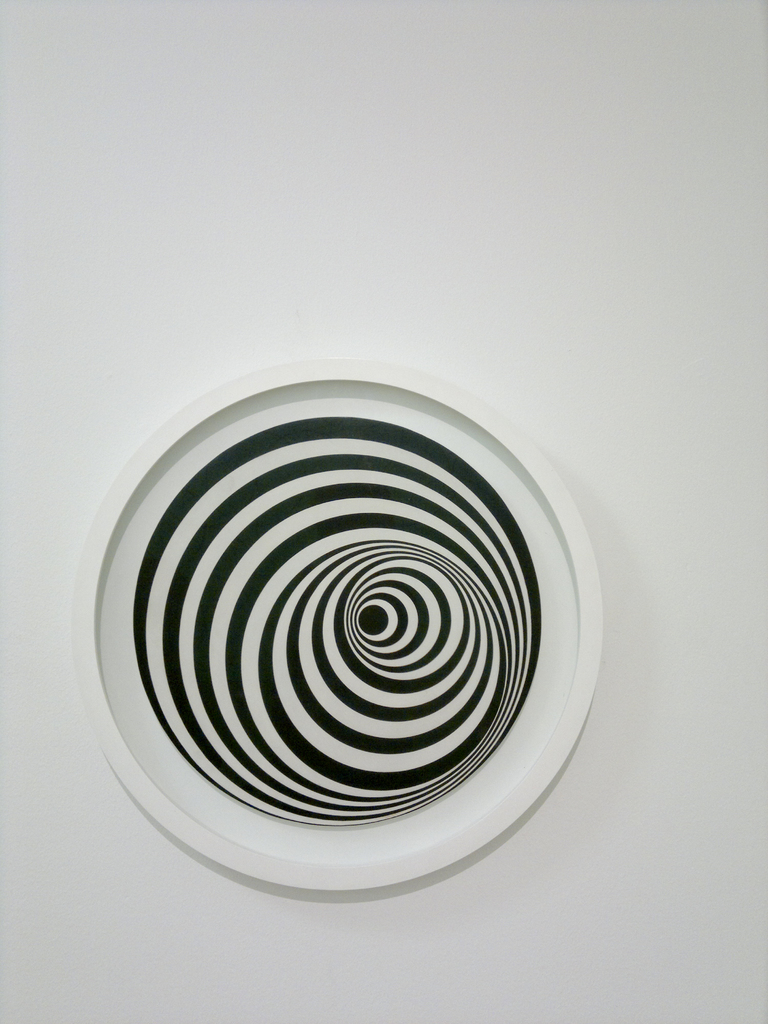plate: (42, 334, 585, 867)
